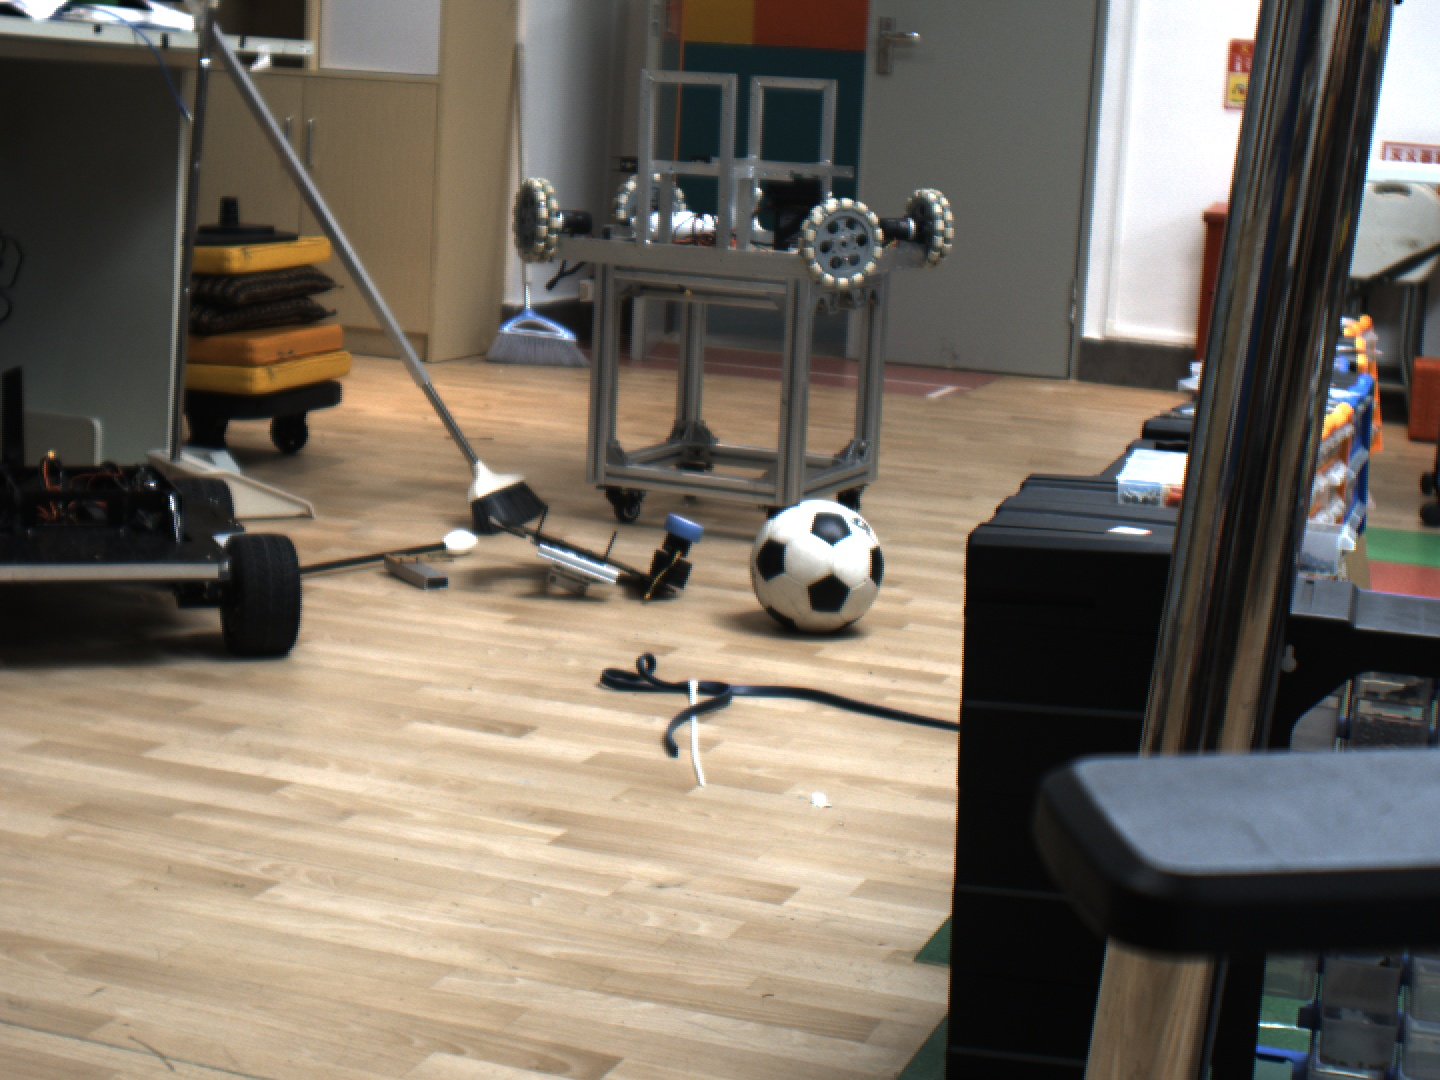ball: (749, 497, 896, 634)
